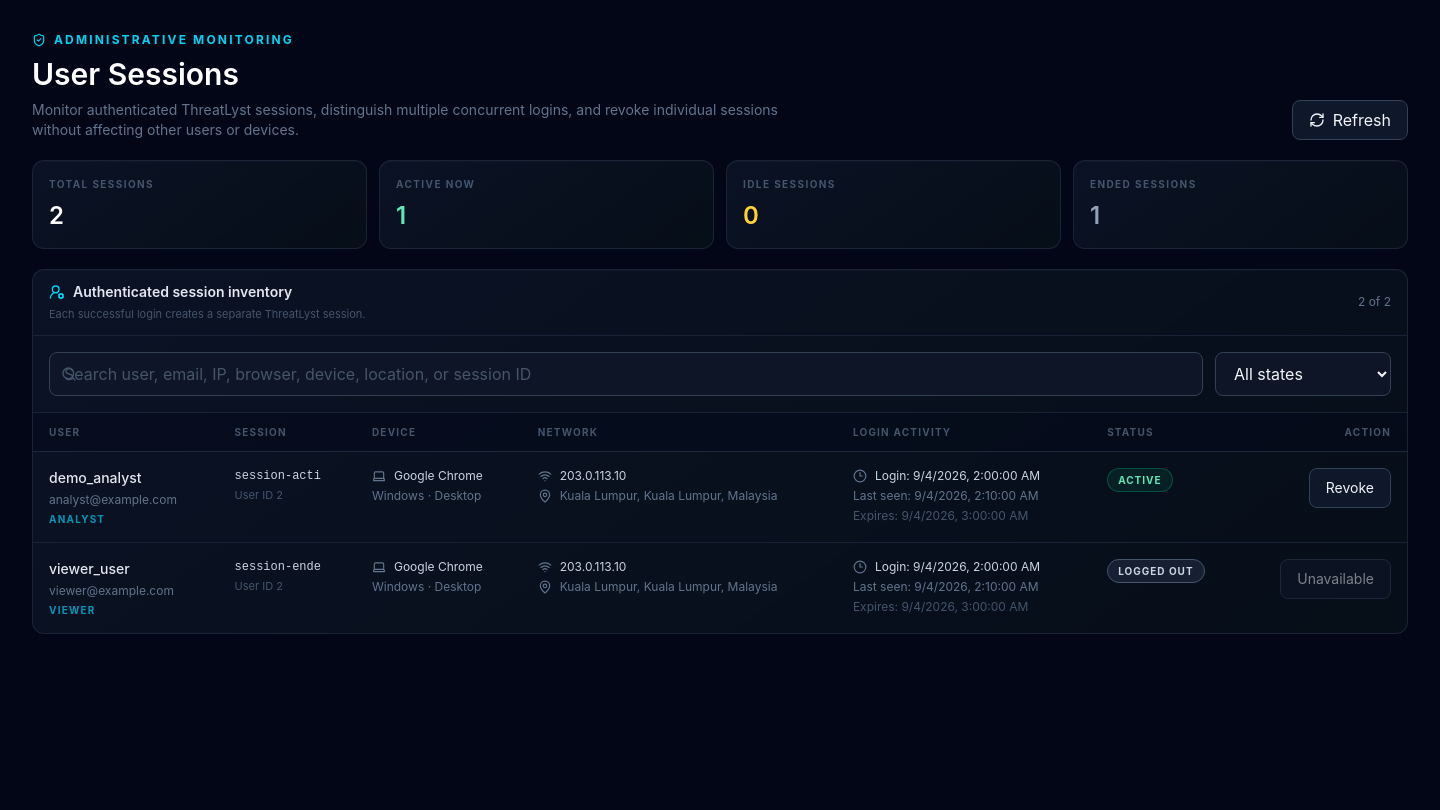
Test: UserSessionsPage › filters sessions by search text
The image size is (1440, 810).
Expected: the text "demo_analyst" is shown, [49, 469, 142, 486]
Type "viewer_user" into the field named "Search user sessions" at (626, 374), box [49, 352, 1203, 396]
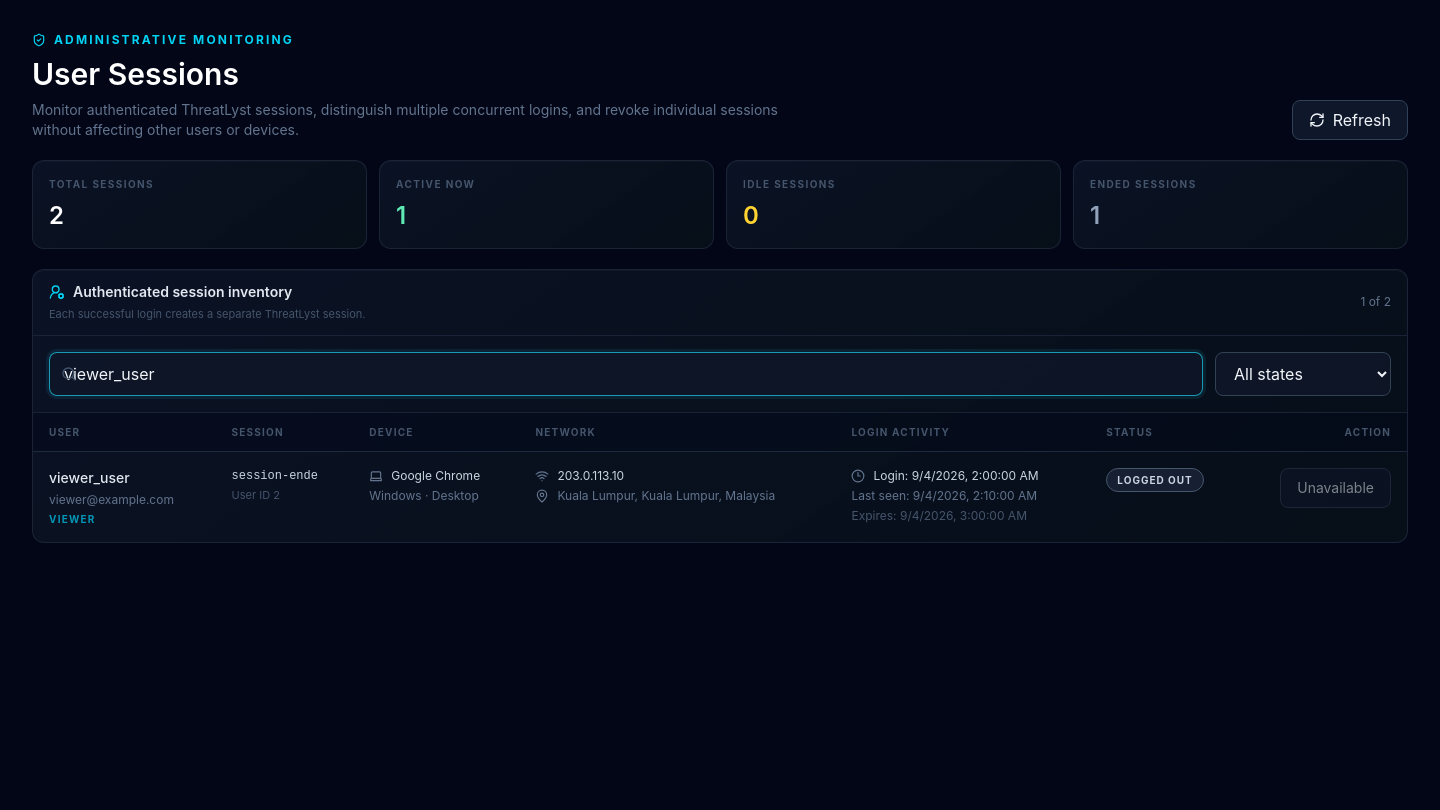
Expected: the text "viewer_user" is shown, [49, 469, 130, 486]
Result: the text "demo_analyst" is gone
